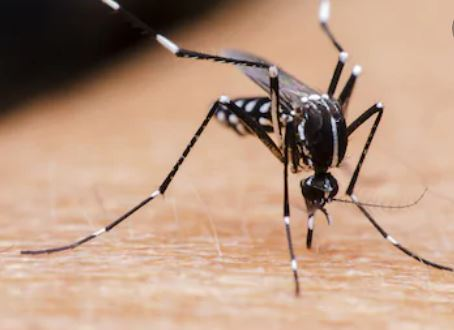dengue_mosquito: (155, 32, 427, 266)
